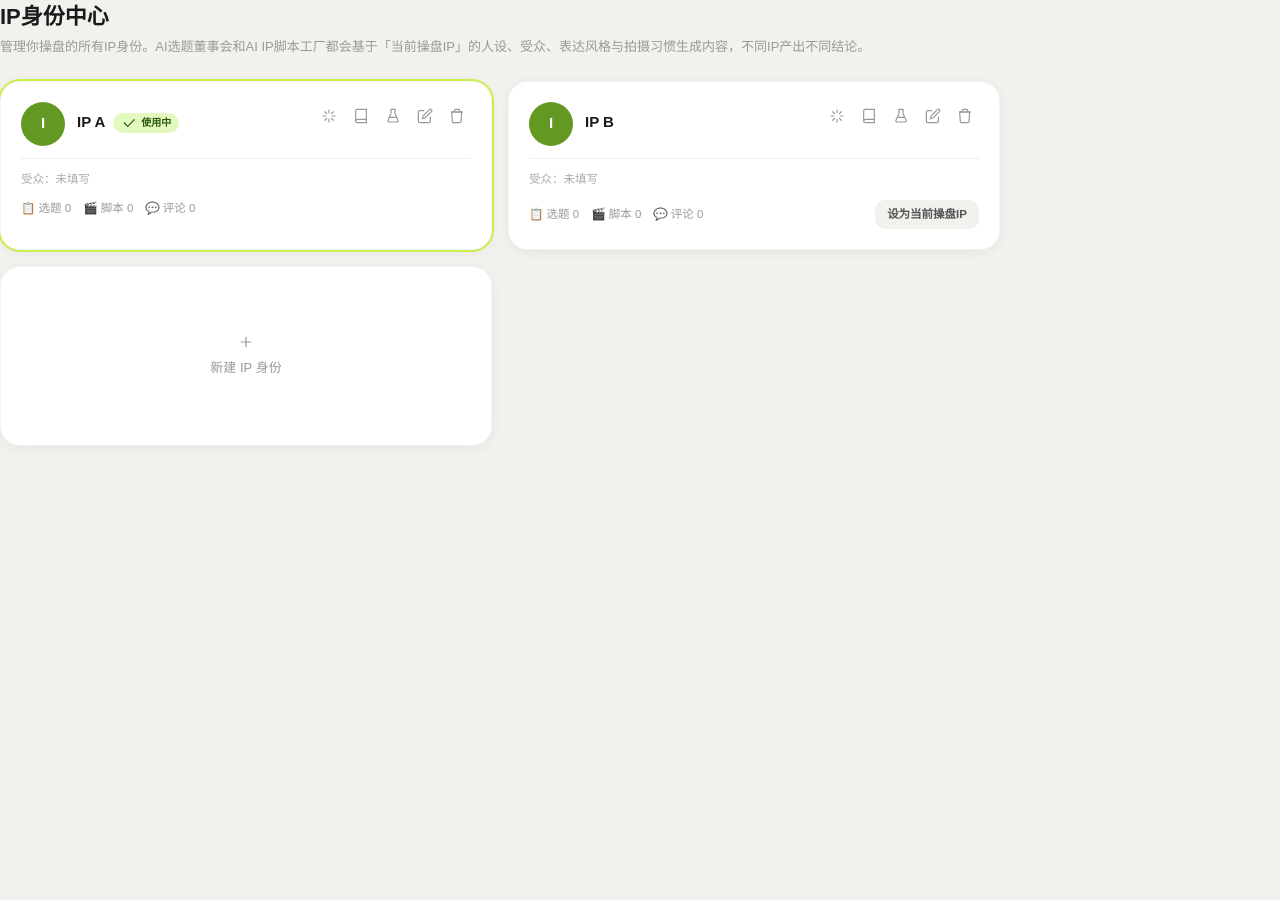
IP A只发送勾选的本IP样本并只保存自己的画像，分析期间锁定样本增删
The image size is (1280, 900).
Step 1. Click the button titled "口播逐字稿样本库" in the row of "使用中" → (361, 116), box [347,102,375,130]
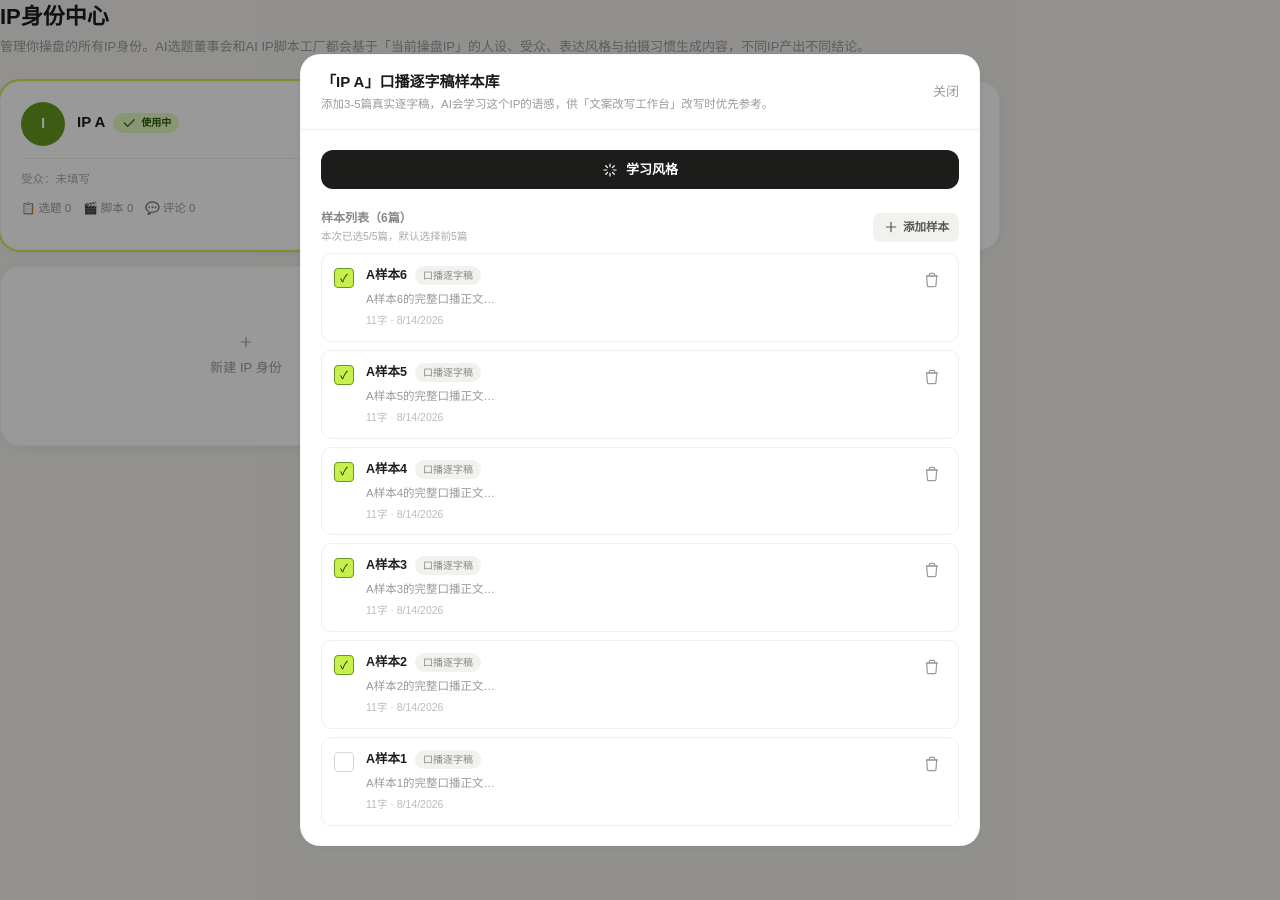
Check: the text "A样本1" is shown, box [366,750,407,769]
Step 2. Click the button named "选择A样本1" → (344, 762), box [334,752,354,772]
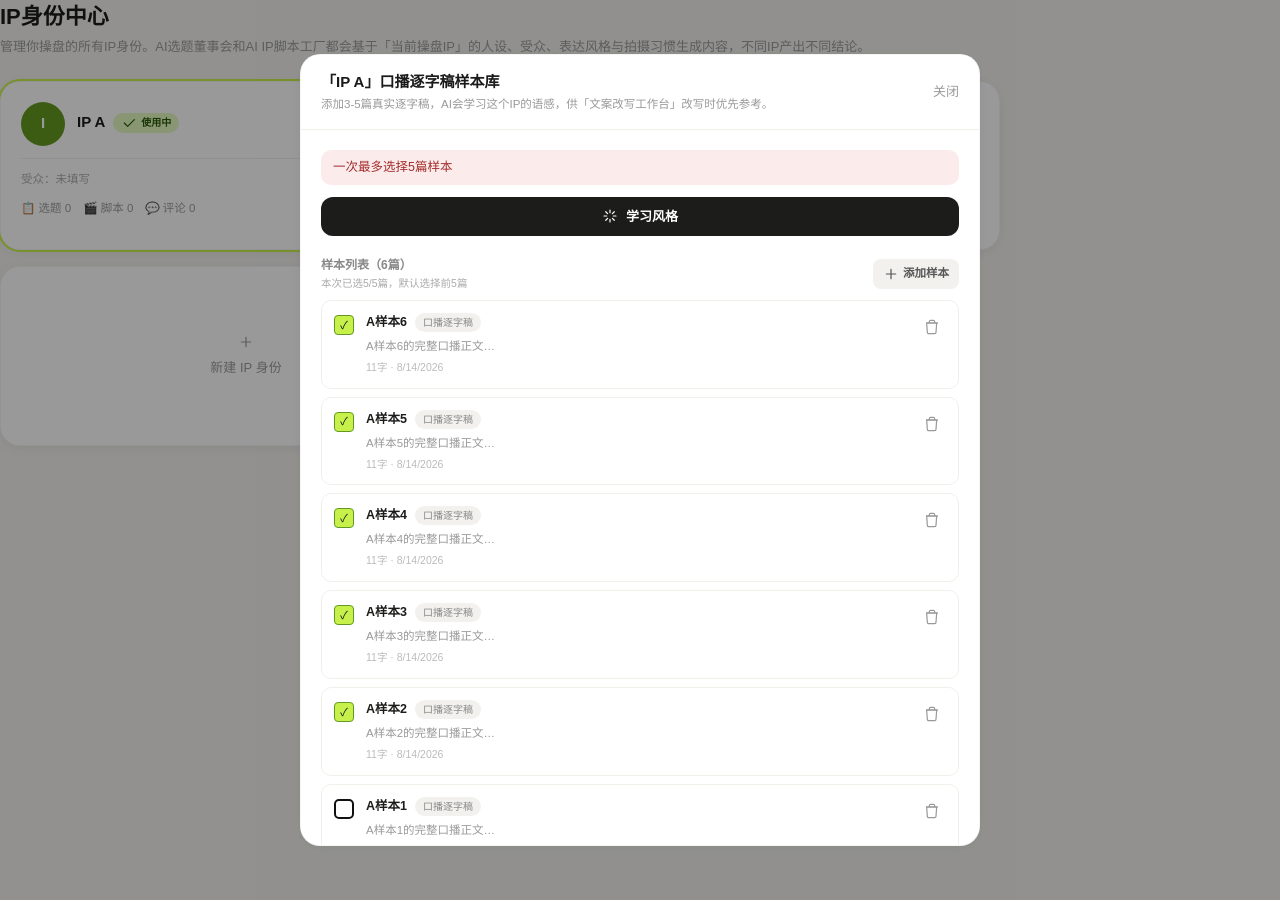
Check: the text "一次最多选择5篇样本" is shown, box [321,150,959,185]
Step 3. Click the button named "取消选择A样本2" → (344, 712), box [334,702,354,722]
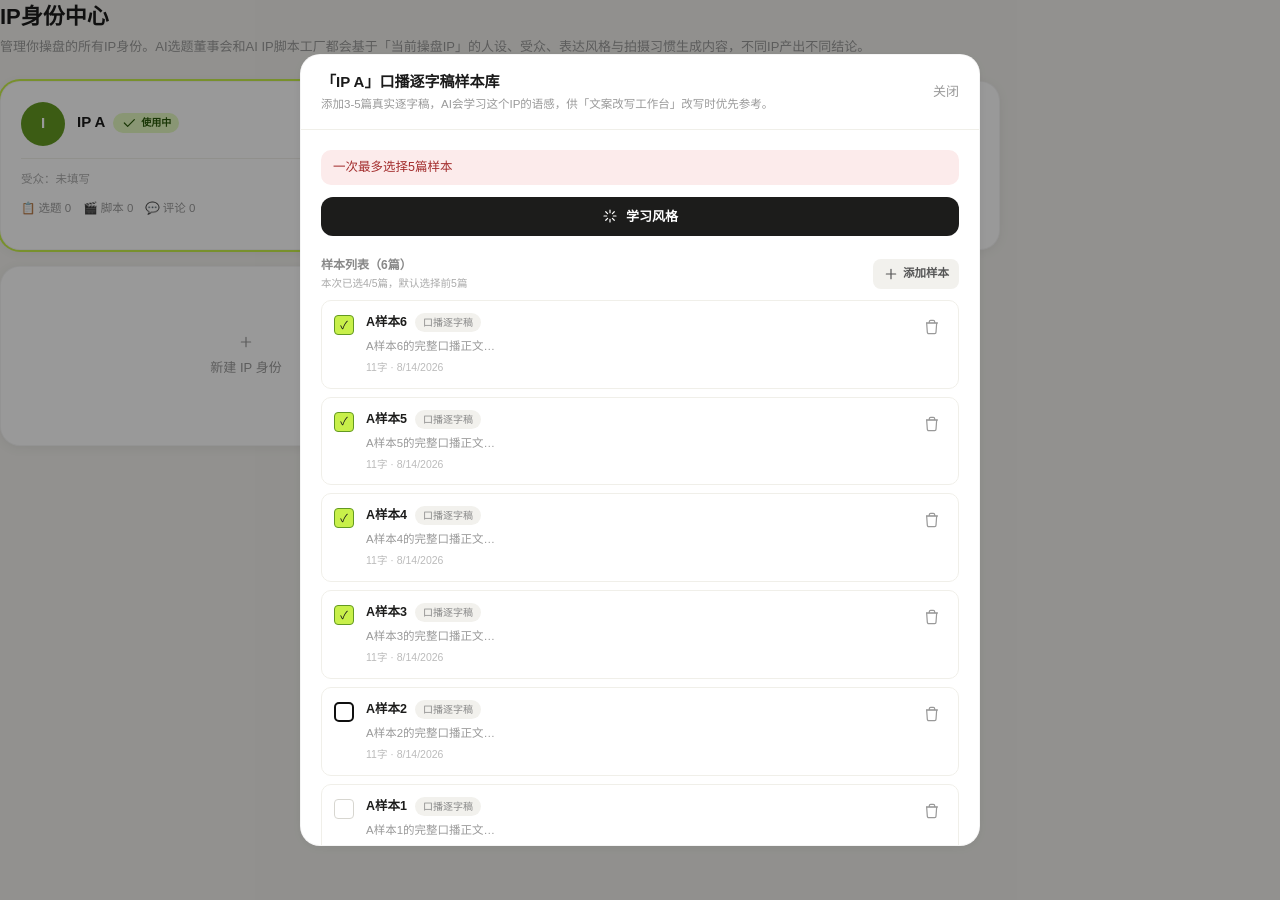
Step 4. Click the button named "选择A样本1" → (344, 808), box [334,798,354,818]
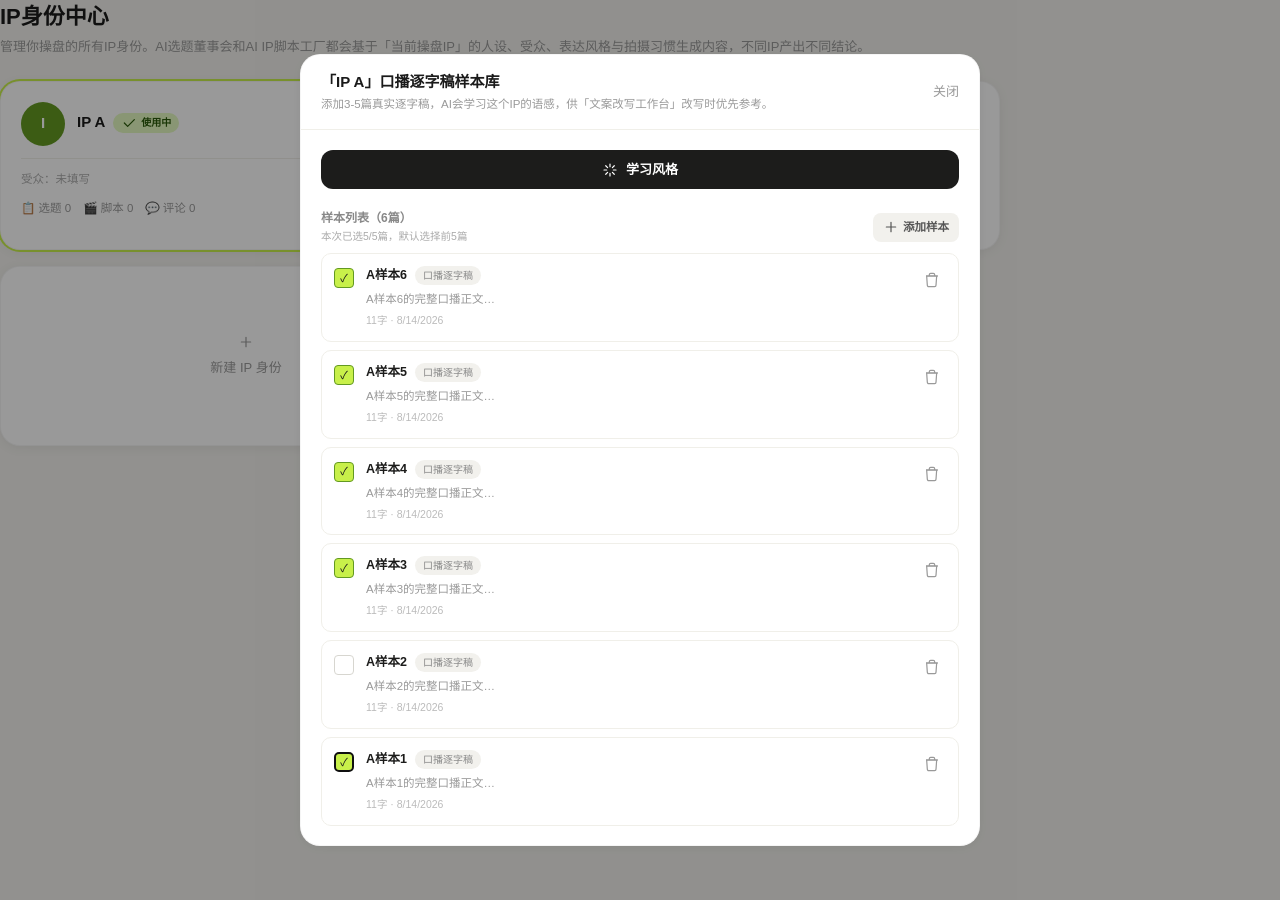
Step 5. Click the button "学习风格" → (640, 170), box [321,150,959,189]
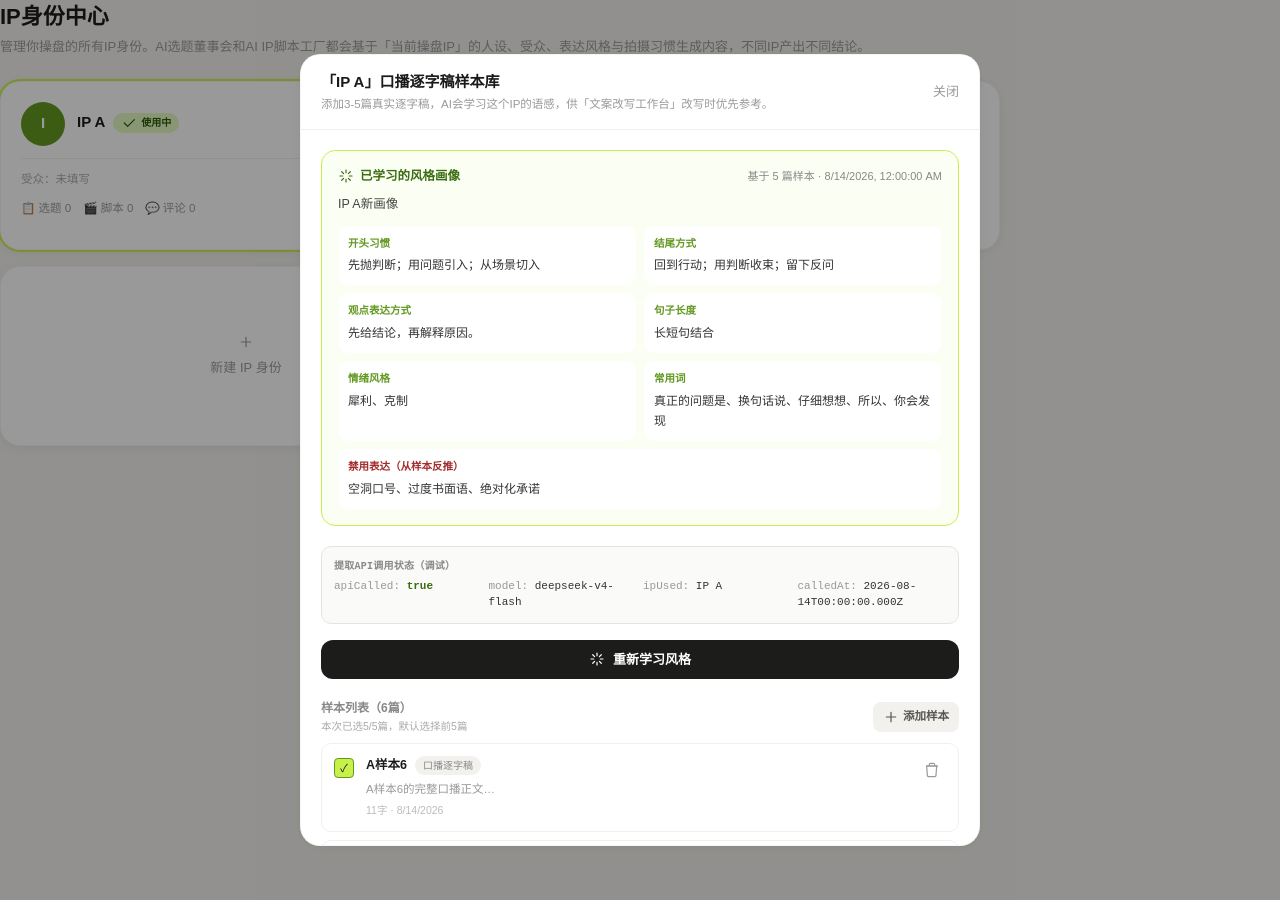
Check: the text "IP A新画像" is shown, box [338,196,398,210]
